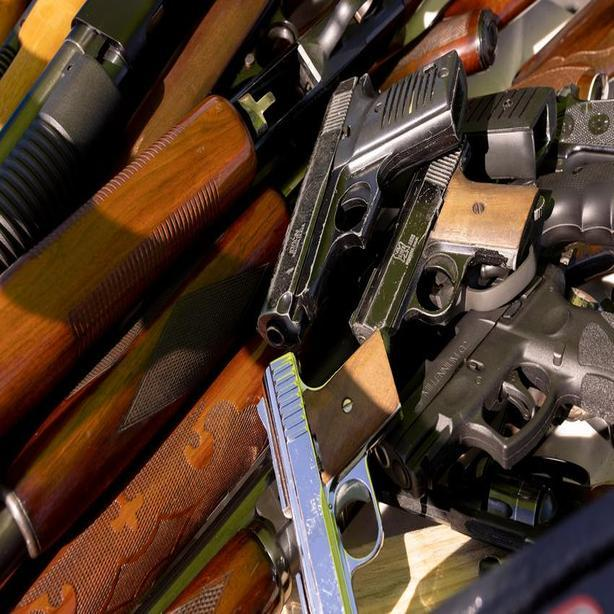Firearm: (252, 34, 486, 333), (234, 347, 447, 614), (393, 282, 614, 485), (332, 127, 543, 338)
